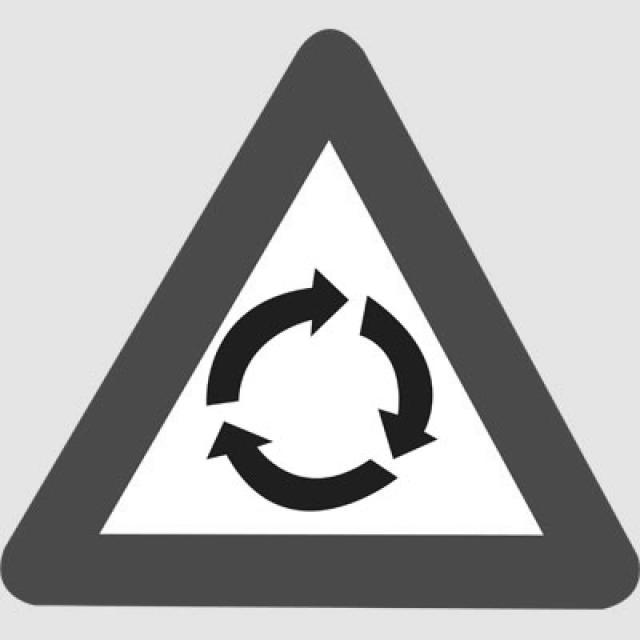roundabout: (21, 33, 622, 605)
